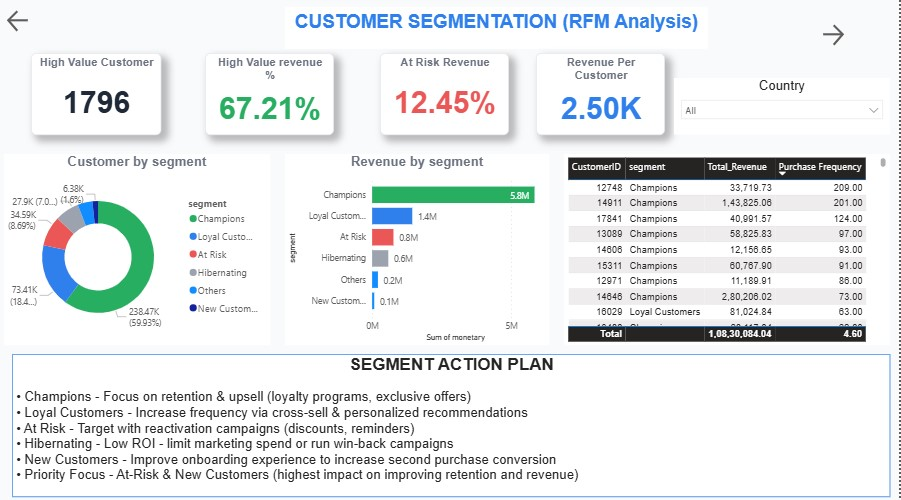

What the dashboard file says about the page in this screenshot:
{"tool":"powerbi","page":{"name":"RFM Analysis","canvas":[1280,720],"ordinal":1},"visuals":[{"type":"donutChart","title":"Customer by segment","fields":{"Category":["rfm_segment.segment"],"Y":["CountNonNull(retail_customer.CustomerID)"]},"box":[16.9,225.9,375.5,269.6],"z":0},{"type":"barChart","title":"Revenue by segment","fields":{"Y":["Sum(rfm_segment.monetary)"],"Category":["rfm_segment.segment"]},"box":[413.6,225.9,372.7,269.6],"z":1000},{"type":"card","title":"High Value Customer","fields":{"Values":["Measure.High Value Customers"]},"box":[55.1,83.3,183.5,115.8],"z":2000},{"type":"card","title":"High Value revenue %","fields":{"Values":["Measure.High Value Revenue %"]},"box":[300.7,83.3,182.1,115.8],"z":3000},{"type":"card","title":"At Risk Revenue","fields":{"Values":["Measure.At Risk Revenue"]},"box":[547.8,83.3,182.1,115.8],"z":4000},{"type":"textbox","box":[413.6,18.4,597.2,59.3],"z":5000},{"type":"textbox","title":"SEGMENT ACTION PLAN","box":[28.2,508.2,1239.5,201.9],"z":6000},{"type":"tableEx","fields":{"Values":["retail_customer.CustomerID","rfm_segment.segment","Measure.Total_Revenue","Measure.Purchase Frequency"]},"box":[807.5,225.9,460.2,269.6],"z":7000},{"type":"card","title":"Revenue Per Customer","fields":{"Values":["Measure.Revenue per Customer"]},"box":[768,83.3,182.1,115.8],"z":8000},{"type":"slicer","title":"Country","fields":{"Values":["retail_customer.Country"]},"box":[962.8,118.6,304.9,80.5],"z":9000},{"type":"actionButton","box":[16.9,18.4,100.2,39.5],"z":10000},{"type":"actionButton","box":[1167.5,38.1,100.2,39.5],"z":11000}]}

Visuals, with their boxes in screenshot pixels (x1, y1, x2, y2), scaled from the page's 1280x720 canvas onto the 901x500 screenshot:
"Customer by segment" donutChart: left=12, top=157, right=276, bottom=344
"Revenue by segment" barChart: left=291, top=157, right=553, bottom=344
"High Value Customer" card: left=39, top=58, right=168, bottom=138
"High Value revenue %" card: left=212, top=58, right=340, bottom=138
"At Risk Revenue" card: left=386, top=58, right=514, bottom=138
textbox: left=291, top=13, right=712, bottom=54
"SEGMENT ACTION PLAN" textbox: left=20, top=353, right=892, bottom=493
tableEx - retail_customer.CustomerID x rfm_segment.segment: left=568, top=157, right=892, bottom=344
"Revenue Per Customer" card: left=541, top=58, right=669, bottom=138
"Country" slicer: left=678, top=82, right=892, bottom=138
actionButton: left=12, top=13, right=82, bottom=40
actionButton: left=822, top=26, right=892, bottom=54
